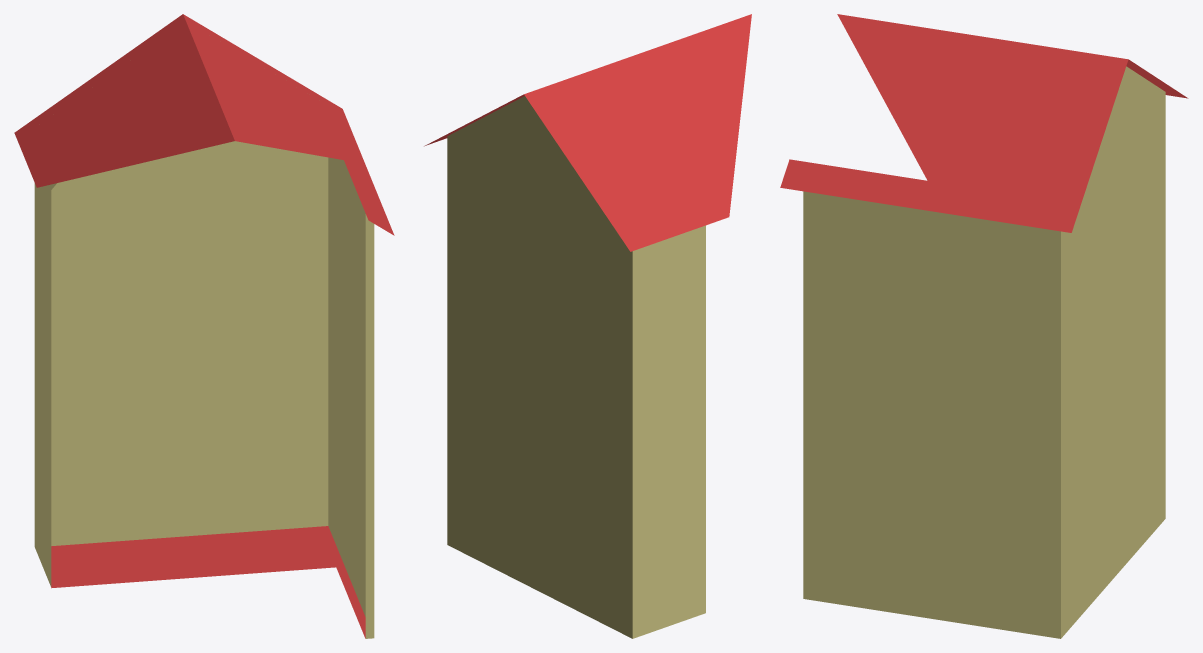
3 renders of one model, left to right at view 1: azimuth 30°, elevation 25°; view 2: azimuth 150°, elevation 25°; view 3: azimuth 270°, elevation 25°, orthographic. The views are drawn at different scales.
Size of the model in its own units: 10.12 by 11.34 by 16.05.
